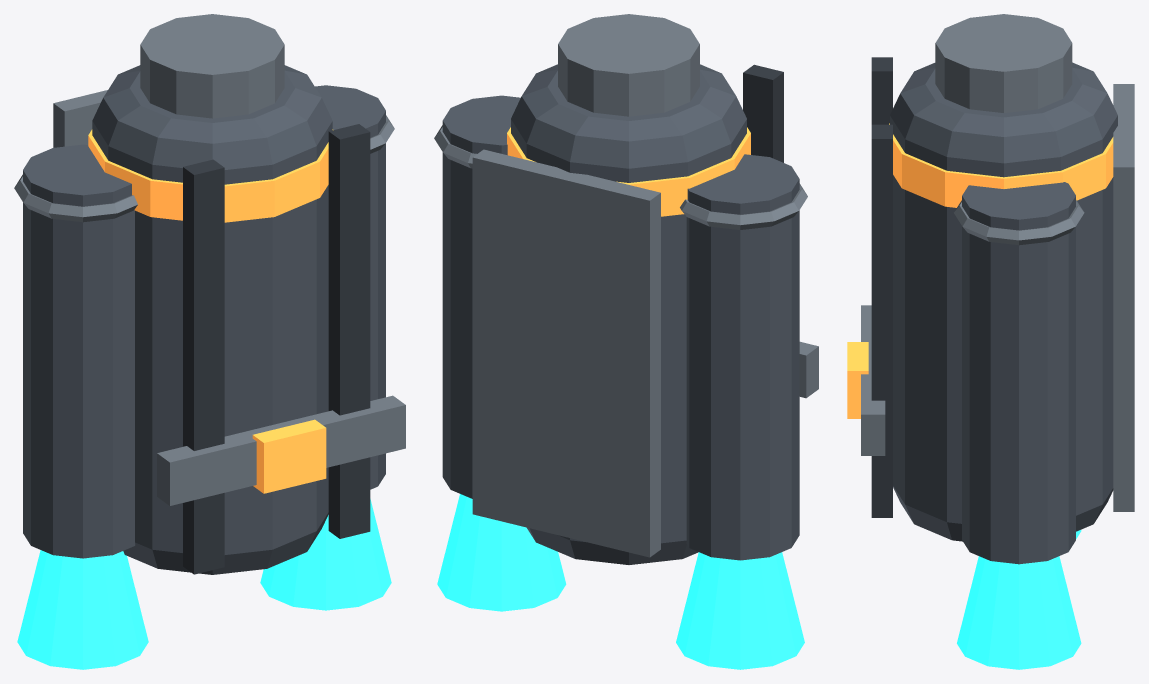
The model's file is jetpack.glb.
The picture shows the model from 3 angles, left to right: view 1: azimuth 30°, elevation 25°; view 2: azimuth 150°, elevation 25°; view 3: azimuth 270°, elevation 25°; orthographic projection. The views are drawn at different scales.
Visible parts, largest first — view 1: JetpackBody, JetpackThrusterL, JetpackStrapR, JetpackStrapL, JetpackTopCap, JetpackNozzleL, JetpackBelt, JetpackNozzleR, JetpackThrusterR, JetpackWarningBand, JetpackBuckle, JetpackBackPlate (+1 smaller); view 2: JetpackBackPlate, JetpackThrusterL, JetpackBody, JetpackThrusterR, JetpackTopCap, JetpackNozzleL, JetpackNozzleR, JetpackStrapL, JetpackWarningBand, JetpackThrusterRingL, JetpackBelt, JetpackThrusterRingR; view 3: JetpackBody, JetpackThrusterR, JetpackTopCap, JetpackNozzleR, JetpackBackPlate, JetpackStrapR, JetpackWarningBand, JetpackBelt, JetpackThrusterRingR, JetpackStrapL, JetpackBuckle.
Boxes of the visible parts, bbox=[...] form: JetpackBody: bbox=[92, 65, 332, 574]; JetpackThrusterL: bbox=[23, 144, 135, 558]; JetpackStrapR: bbox=[328, 124, 370, 538]; JetpackStrapL: bbox=[183, 159, 224, 574]; JetpackTopCap: bbox=[140, 14, 284, 118]; JetpackNozzleL: bbox=[17, 550, 148, 669]; JetpackBelt: bbox=[157, 395, 405, 505]; JetpackNozzleR: bbox=[260, 499, 391, 610]; JetpackThrusterR: bbox=[315, 85, 385, 489]; JetpackWarningBand: bbox=[88, 129, 333, 222]; JetpackBuckle: bbox=[252, 419, 326, 493]; JetpackBackPlate: bbox=[53, 90, 107, 147]; JetpackBackPlate: bbox=[472, 149, 660, 557]; JetpackThrusterL: bbox=[686, 154, 799, 560]; JetpackBody: bbox=[511, 64, 746, 564]; JetpackThrusterR: bbox=[442, 95, 520, 498]; JetpackTopCap: bbox=[558, 14, 699, 116]; JetpackNozzleL: bbox=[676, 552, 804, 669]; JetpackNozzleR: bbox=[437, 494, 566, 611]; JetpackStrapL: bbox=[743, 64, 783, 162]; JetpackWarningBand: bbox=[507, 127, 750, 216]; JetpackThrusterRingL: bbox=[680, 183, 807, 229]; JetpackBelt: bbox=[799, 341, 818, 398]; JetpackThrusterRingR: bbox=[434, 125, 476, 168]; JetpackBody: bbox=[890, 62, 1117, 541]; JetpackThrusterR: bbox=[962, 182, 1075, 564]; JetpackTopCap: bbox=[935, 14, 1072, 112]; JetpackNozzleR: bbox=[957, 556, 1081, 669]; JetpackBackPlate: bbox=[1113, 84, 1134, 511]; JetpackStrapR: bbox=[871, 124, 892, 517]; JetpackWarningBand: bbox=[889, 123, 1113, 207]; JetpackBelt: bbox=[861, 305, 885, 455]; JetpackThrusterRingR: bbox=[954, 200, 1084, 245]; JetpackStrapL: bbox=[871, 57, 892, 124]; JetpackBuckle: bbox=[847, 342, 868, 418].
Size of the model in its own units: 0.522 by 0.806 by 0.378.
